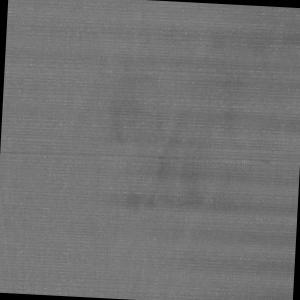Wrinkle: (104, 179, 299, 300)
